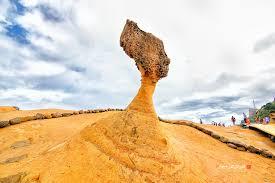yehliu: (114, 18, 181, 84)
